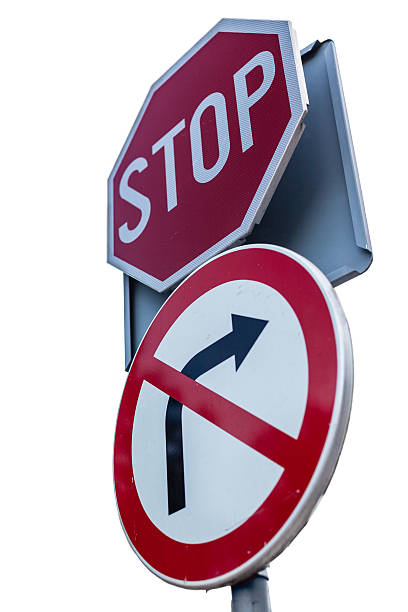saga_girilmez: (106, 242, 344, 586)
